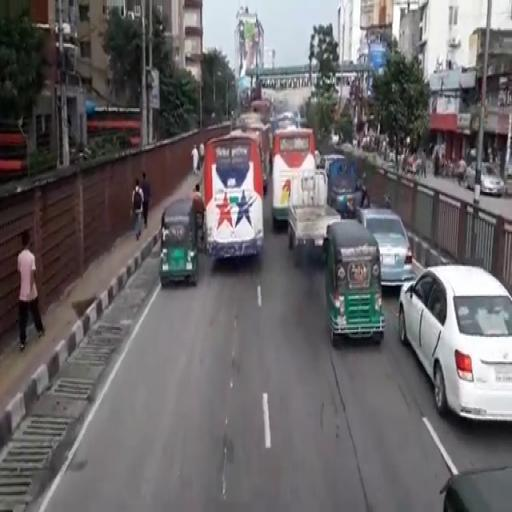bus: (204, 130, 265, 260), (272, 126, 315, 222)
car: (398, 263, 512, 422), (359, 206, 415, 287), (464, 161, 505, 195)
pickup: (287, 169, 341, 256), (328, 156, 367, 214)
three wheelers CNG: (324, 219, 387, 341), (159, 196, 200, 284)
